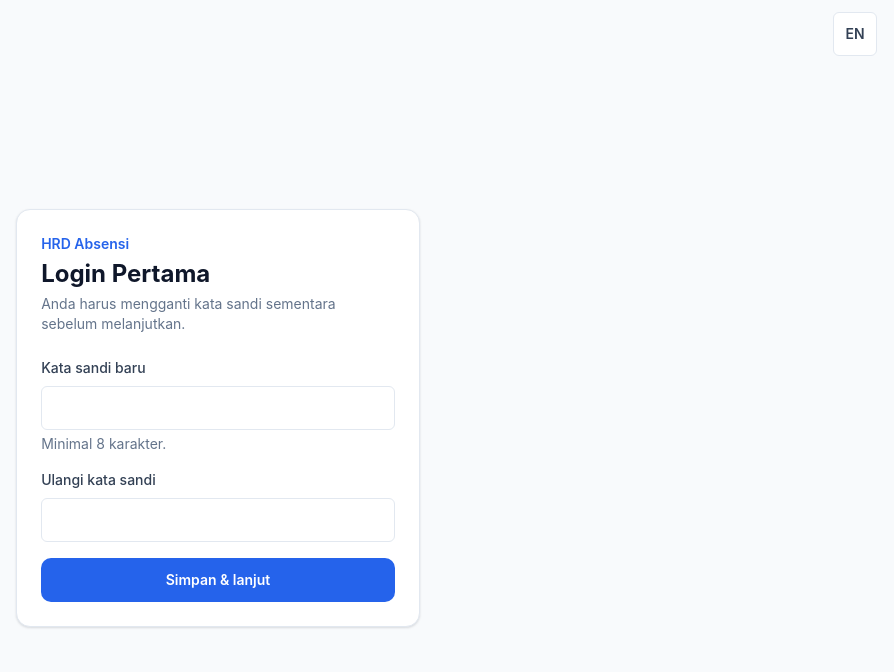
Test: FirstLoginPage › refuses to submit while the two fields differ and keeps the values
This screenshot has width=894, height=672.
Type "brand-new-pass" into the password field labelled "Kata sandi baru" at (218, 408), box top-left (41, 386), bottom-right (395, 430)
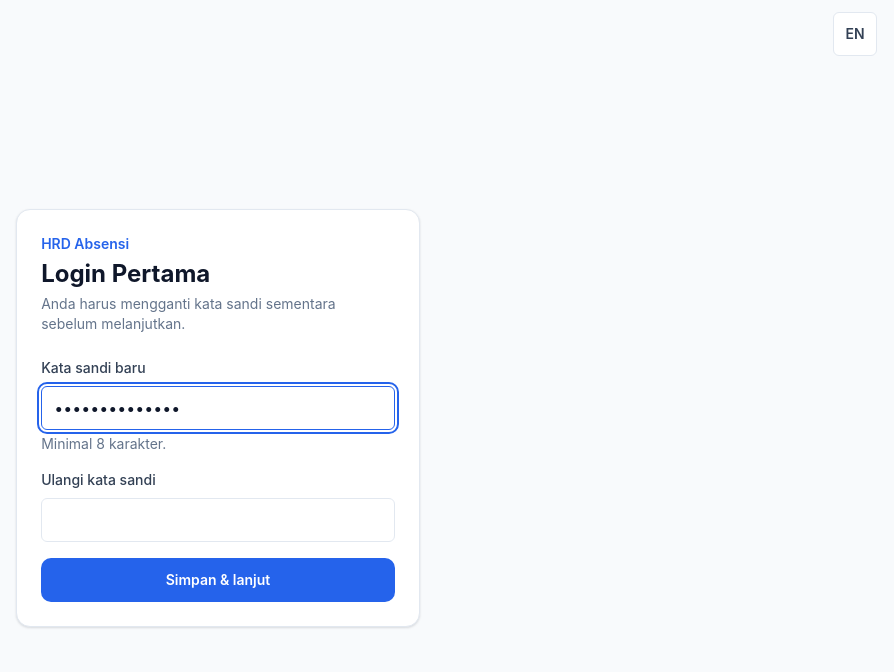
Type "different-pass" into the password field labelled "Ulangi kata sandi" at (218, 520), box top-left (41, 498), bottom-right (395, 542)
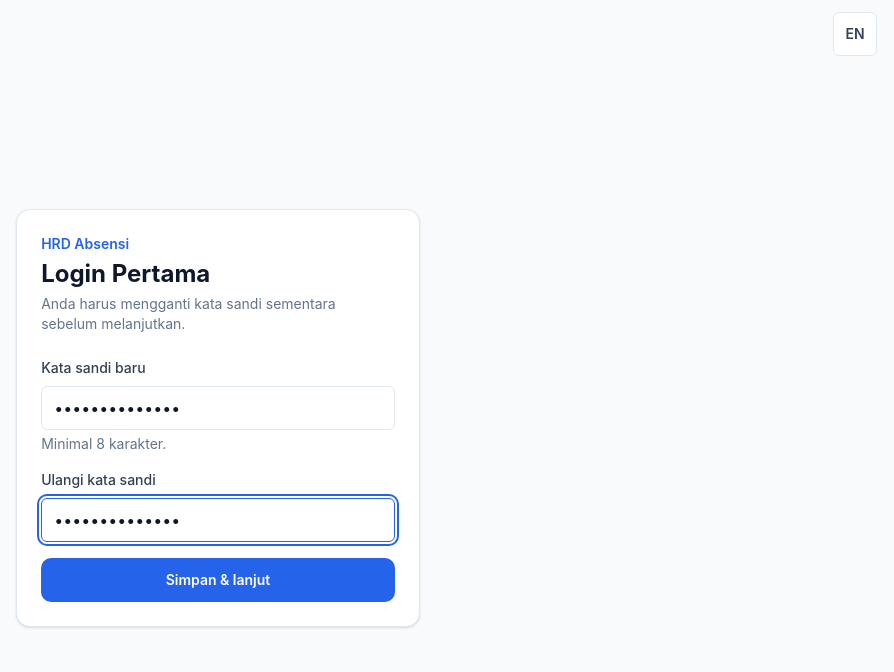
Click the button "Simpan & lanjut" at (218, 580), box top-left (41, 558), bottom-right (395, 602)
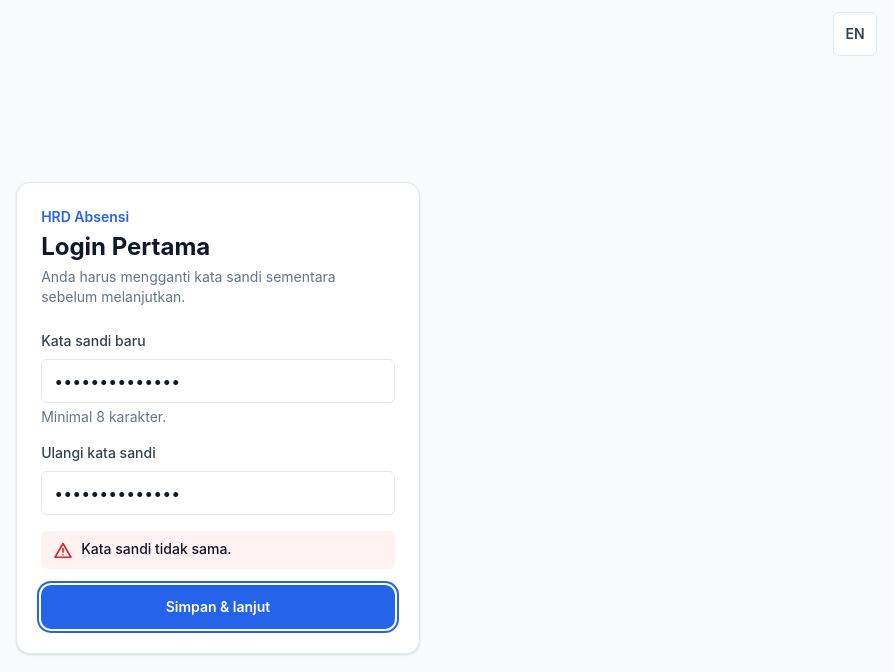
Result: the message with test id "first-login-error" reads "Kata sandi tidak sama." at top-left (81, 540), bottom-right (232, 557)
